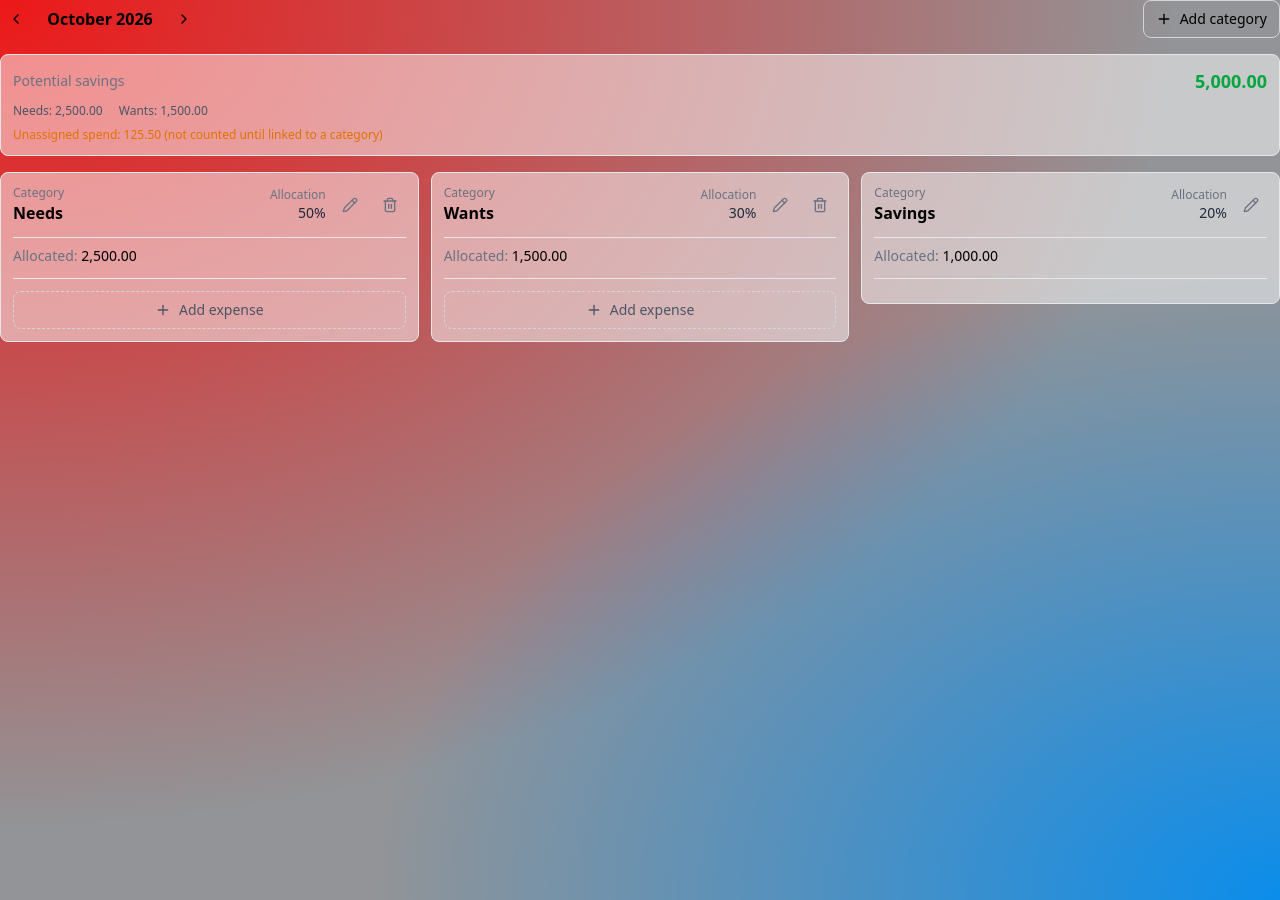
Test: BudgetPlanner › requires confirmation before deleting a category
This screenshot has width=1280, height=900.
Click the button named "Remove Needs" at (390, 205), box [374, 189, 406, 221]
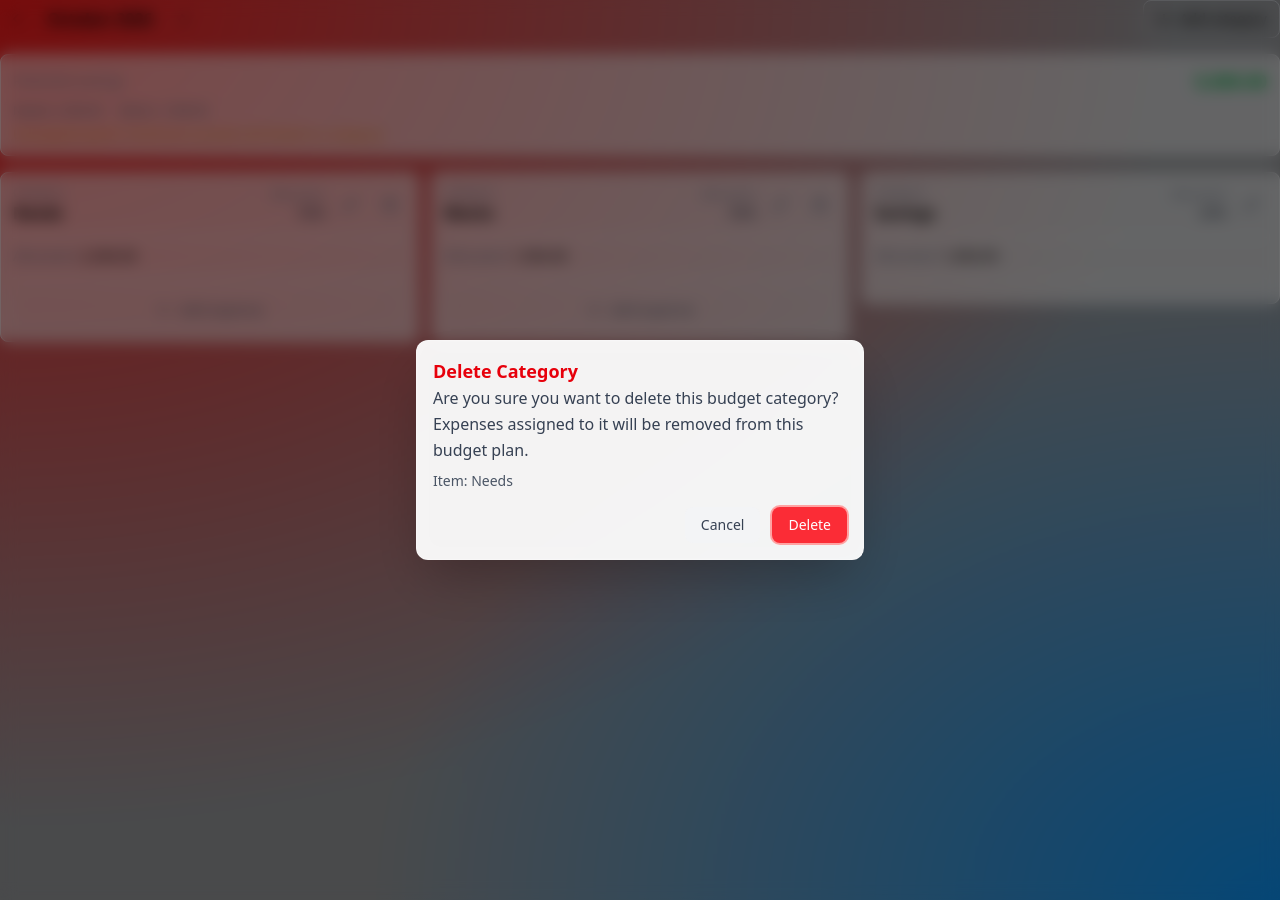
Expected: the heading "Delete Category" is shown, [433, 359, 578, 383]
Click the button "Cancel" at (723, 525), box [685, 507, 760, 543]
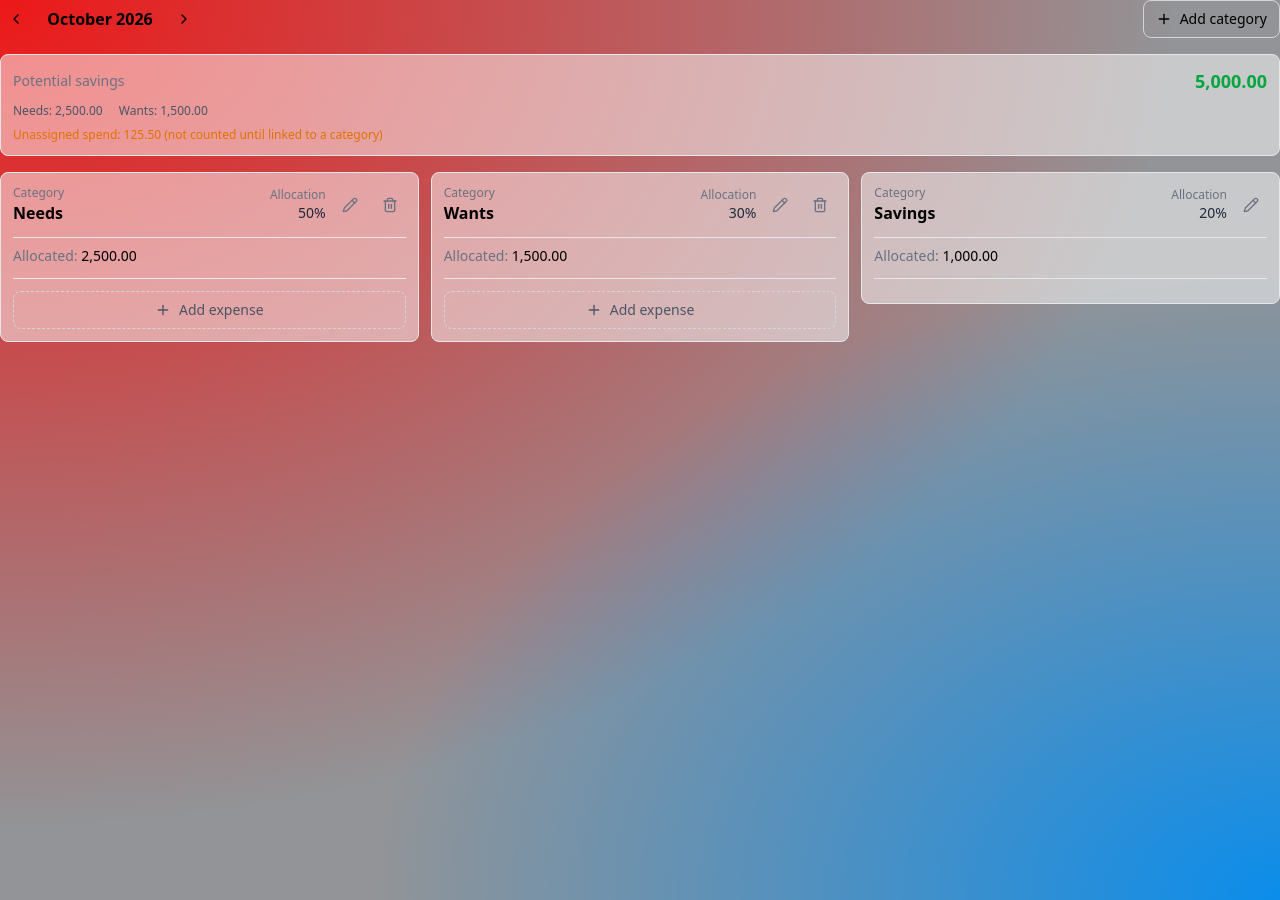
Expected: the heading "Needs" is shown, [13, 202, 63, 224]
Click the button named "Remove Needs" at (390, 205), box [374, 189, 406, 221]
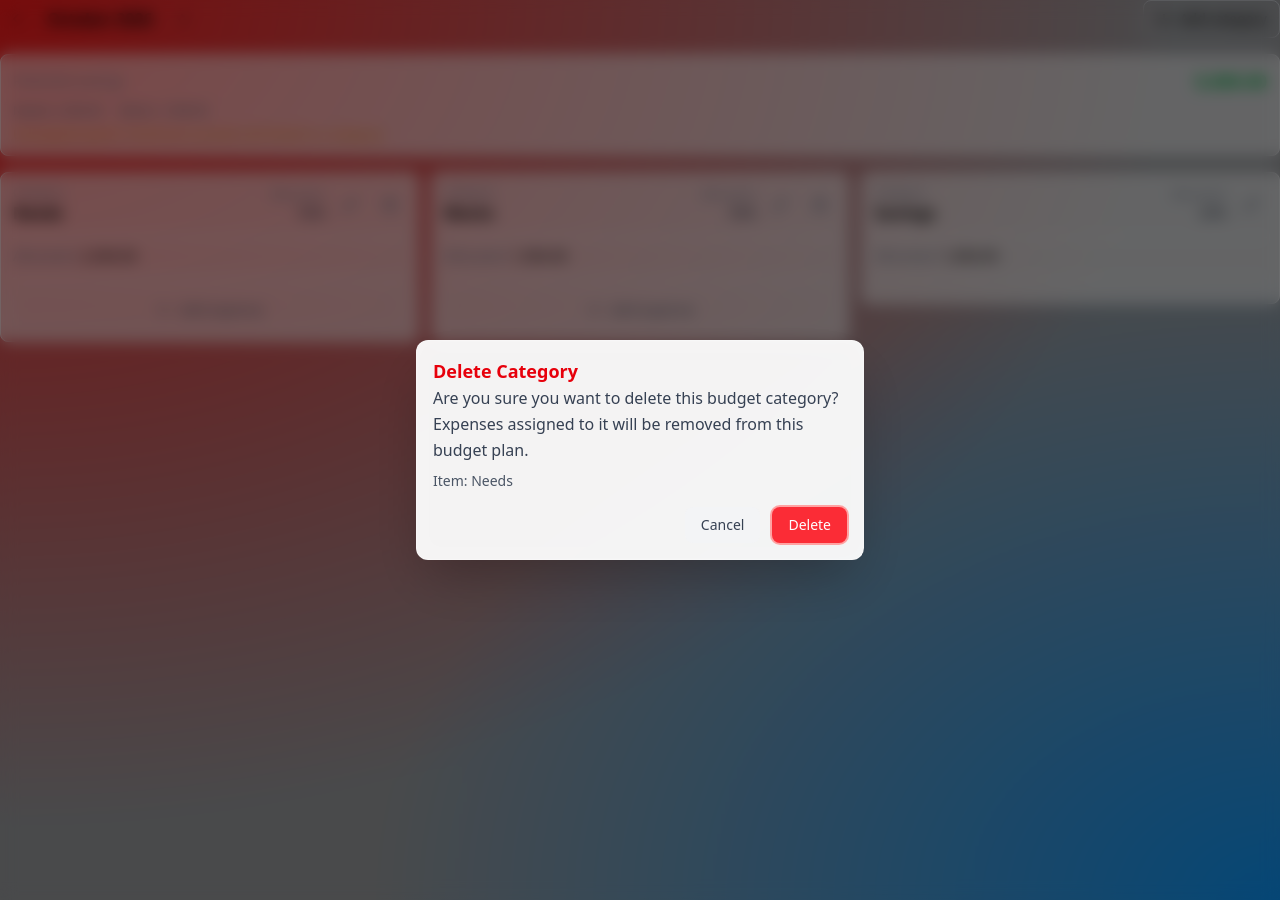
Click the button "Delete" at (810, 525), box [772, 507, 847, 543]
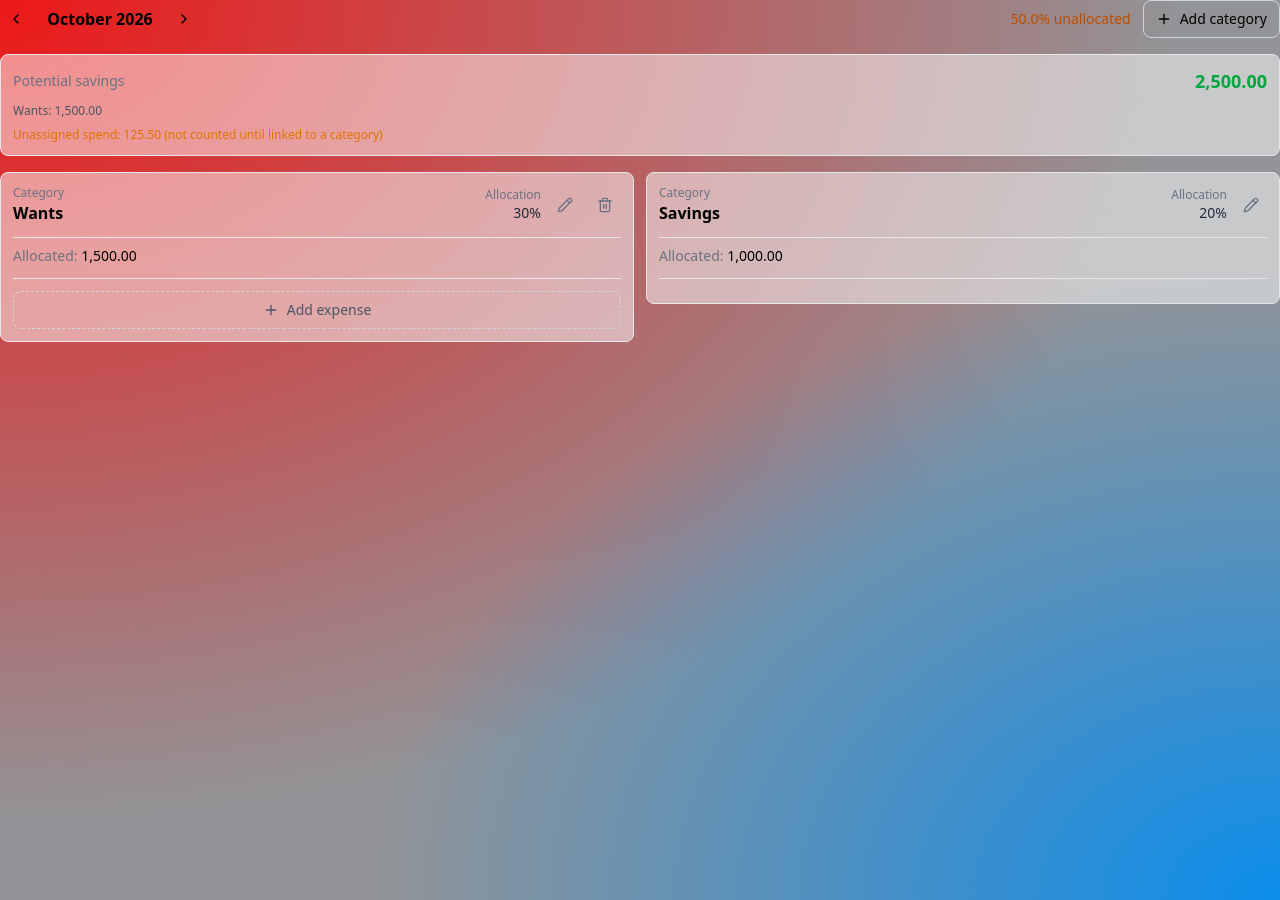
Expected: the list item "Needs" is gone
